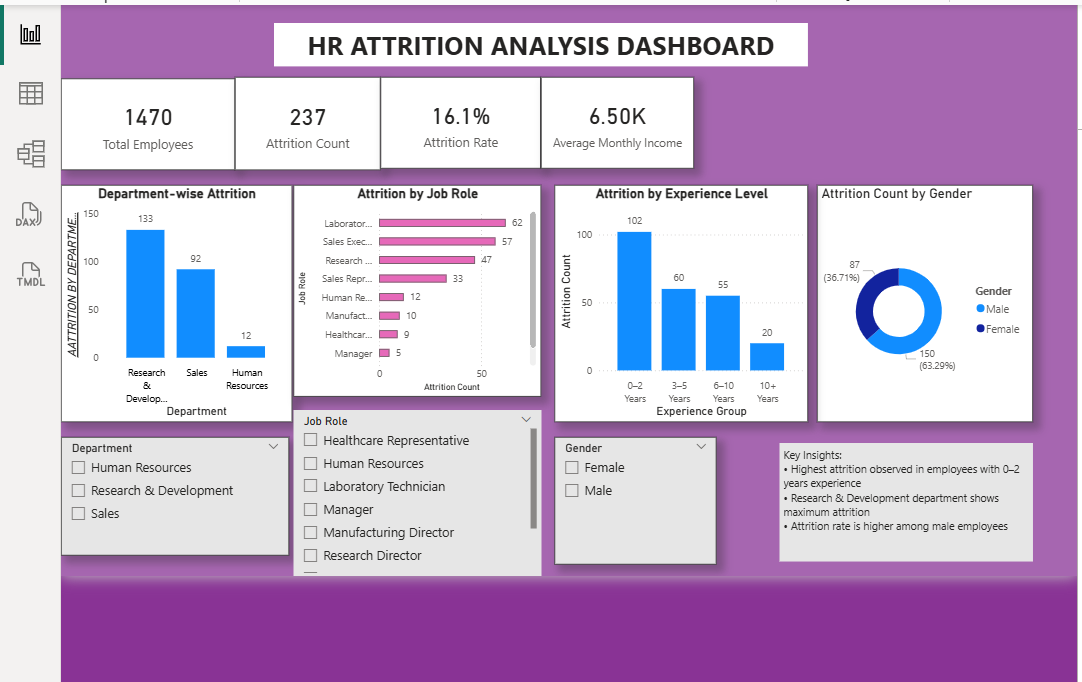

The page's visual inventory and layout, read from the dashboard file:
{"tool":"powerbi","page":{"name":"Page 1","canvas":[1280,720],"ordinal":0},"visuals":[{"type":"card","fields":{"Values":["WA_Fn-UseC_-HR-Employee-Attrition.Total Employees"]},"box":[0,92.6,219.2,115.3],"z":0},{"type":"card","fields":{"Values":["WA_Fn-UseC_-HR-Employee-Attrition.Attrition Count"]},"box":[219.2,90.7,183.3,117.2],"z":1000},{"type":"card","fields":{"Values":["WA_Fn-UseC_-HR-Employee-Attrition.Attrition Rate"]},"box":[402.5,90.7,202.2,115.3],"z":2000},{"type":"card","fields":{"Values":["WA_Fn-UseC_-HR-Employee-Attrition.Average Monthly Income"]},"box":[604.7,90.7,192.8,115.3],"z":3000},{"type":"columnChart","title":"Department-wise Attrition","fields":{"Category":["WA_Fn-UseC_-HR-Employee-Attrition.Department"],"Y":["WA_Fn-UseC_-HR-Employee-Attrition.Attrition Count"]},"box":[0,226.8,291,298.6],"z":4000},{"type":"clusteredBarChart","title":"Attrition by Job Role","fields":{"Category":["WA_Fn-UseC_-HR-Employee-Attrition.Job Role"],"Y":["WA_Fn-UseC_-HR-Employee-Attrition.Attrition Count"]},"box":[292.9,226.8,311.8,266.5],"z":5000},{"type":"donutChart","fields":{"Category":["WA_Fn-UseC_-HR-Employee-Attrition.Gender"],"Y":["WA_Fn-UseC_-HR-Employee-Attrition.Attrition Count"]},"box":[952.4,226.8,272.1,298.6],"z":6000},{"type":"clusteredColumnChart","title":"Attrition by Experience Level","fields":{"Category":["WA_Fn-UseC_-HR-Employee-Attrition.Experience Group"],"Y":["WA_Fn-UseC_-HR-Employee-Attrition.Attrition Count"]},"box":[621.7,226.8,319.4,298.6],"z":7000},{"type":"slicer","fields":{"Values":["WA_Fn-UseC_-HR-Employee-Attrition.Department"]},"box":[0,544.3,287.2,149.3],"z":8000},{"type":"slicer","fields":{"Values":["WA_Fn-UseC_-HR-Employee-Attrition.Gender"]},"box":[621.7,544.3,204.1,160.6],"z":9000},{"type":"slicer","fields":{"Values":["WA_Fn-UseC_-HR-Employee-Attrition.Job Role"]},"box":[292.9,510.2,311.8,209.8],"z":10000},{"type":"textbox","box":[268.3,22.7,672.8,54.8],"z":11000},{"type":"textbox","box":[905.2,551.8,319.4,149.3],"z":11001}]}

Visuals, with their boxes in screenshot pixels (x1, y1, x2, y2):
card - WA_Fn-UseC_-HR-Employee-Attrition.Total Employees: Rect(54, 74, 230, 167)
card - WA_Fn-UseC_-HR-Employee-Attrition.Attrition Count: Rect(230, 73, 377, 167)
card - WA_Fn-UseC_-HR-Employee-Attrition.Attrition Rate: Rect(377, 73, 540, 166)
card - WA_Fn-UseC_-HR-Employee-Attrition.Average Monthly Income: Rect(540, 73, 695, 166)
"Department-wise Attrition" columnChart: Rect(54, 182, 288, 422)
"Attrition by Job Role" clusteredBarChart: Rect(289, 182, 540, 397)
donutChart - WA_Fn-UseC_-HR-Employee-Attrition.Gender x WA_Fn-UseC_-HR-Employee-Attrition.Attrition Count: Rect(819, 182, 1038, 422)
"Attrition by Experience Level" clusteredColumnChart: Rect(553, 182, 810, 422)
slicer - WA_Fn-UseC_-HR-Employee-Attrition.Department: Rect(54, 438, 284, 558)
slicer - WA_Fn-UseC_-HR-Employee-Attrition.Gender: Rect(553, 438, 718, 567)
slicer - WA_Fn-UseC_-HR-Employee-Attrition.Job Role: Rect(289, 410, 540, 579)
textbox: Rect(269, 18, 810, 62)
textbox: Rect(781, 444, 1038, 564)
